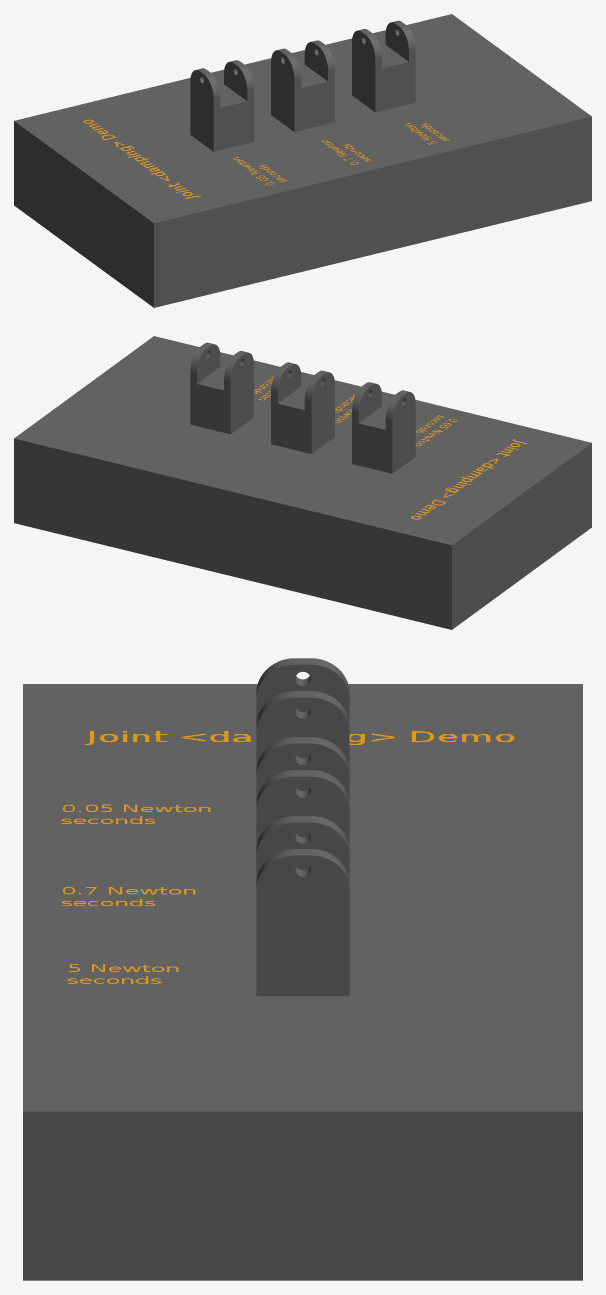
3 views of the same model, one above another, from view 1: azimuth 30°, elevation 25°; view 2: azimuth 150°, elevation 25°; view 3: azimuth 270°, elevation 25° (orthographic). The views are drawn at different scales.
Visible parts, largest first — view 1: Base; view 2: Base; view 3: Base.
Part boxes in pixels (x1=…): Base: x1=14, y1=14, x2=591, y2=307; Base: x1=14, y1=336, x2=591, y2=629; Base: x1=23, y1=658, x2=582, y2=1280.
Size of the model in its own units: 650 by 360 by 220.
Materials: 1 (1 with a texture image).
